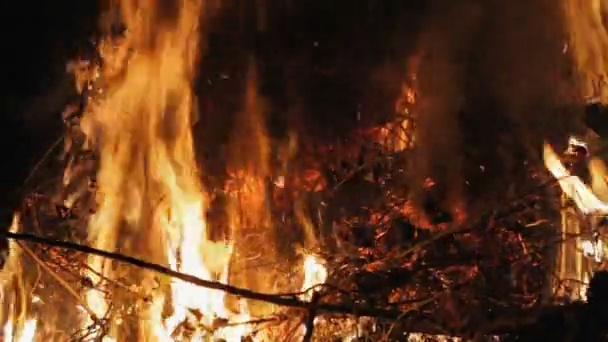fire: (59, 3, 252, 342), (541, 141, 608, 215), (301, 251, 327, 288), (580, 237, 603, 259), (20, 319, 35, 342), (2, 316, 13, 341)
